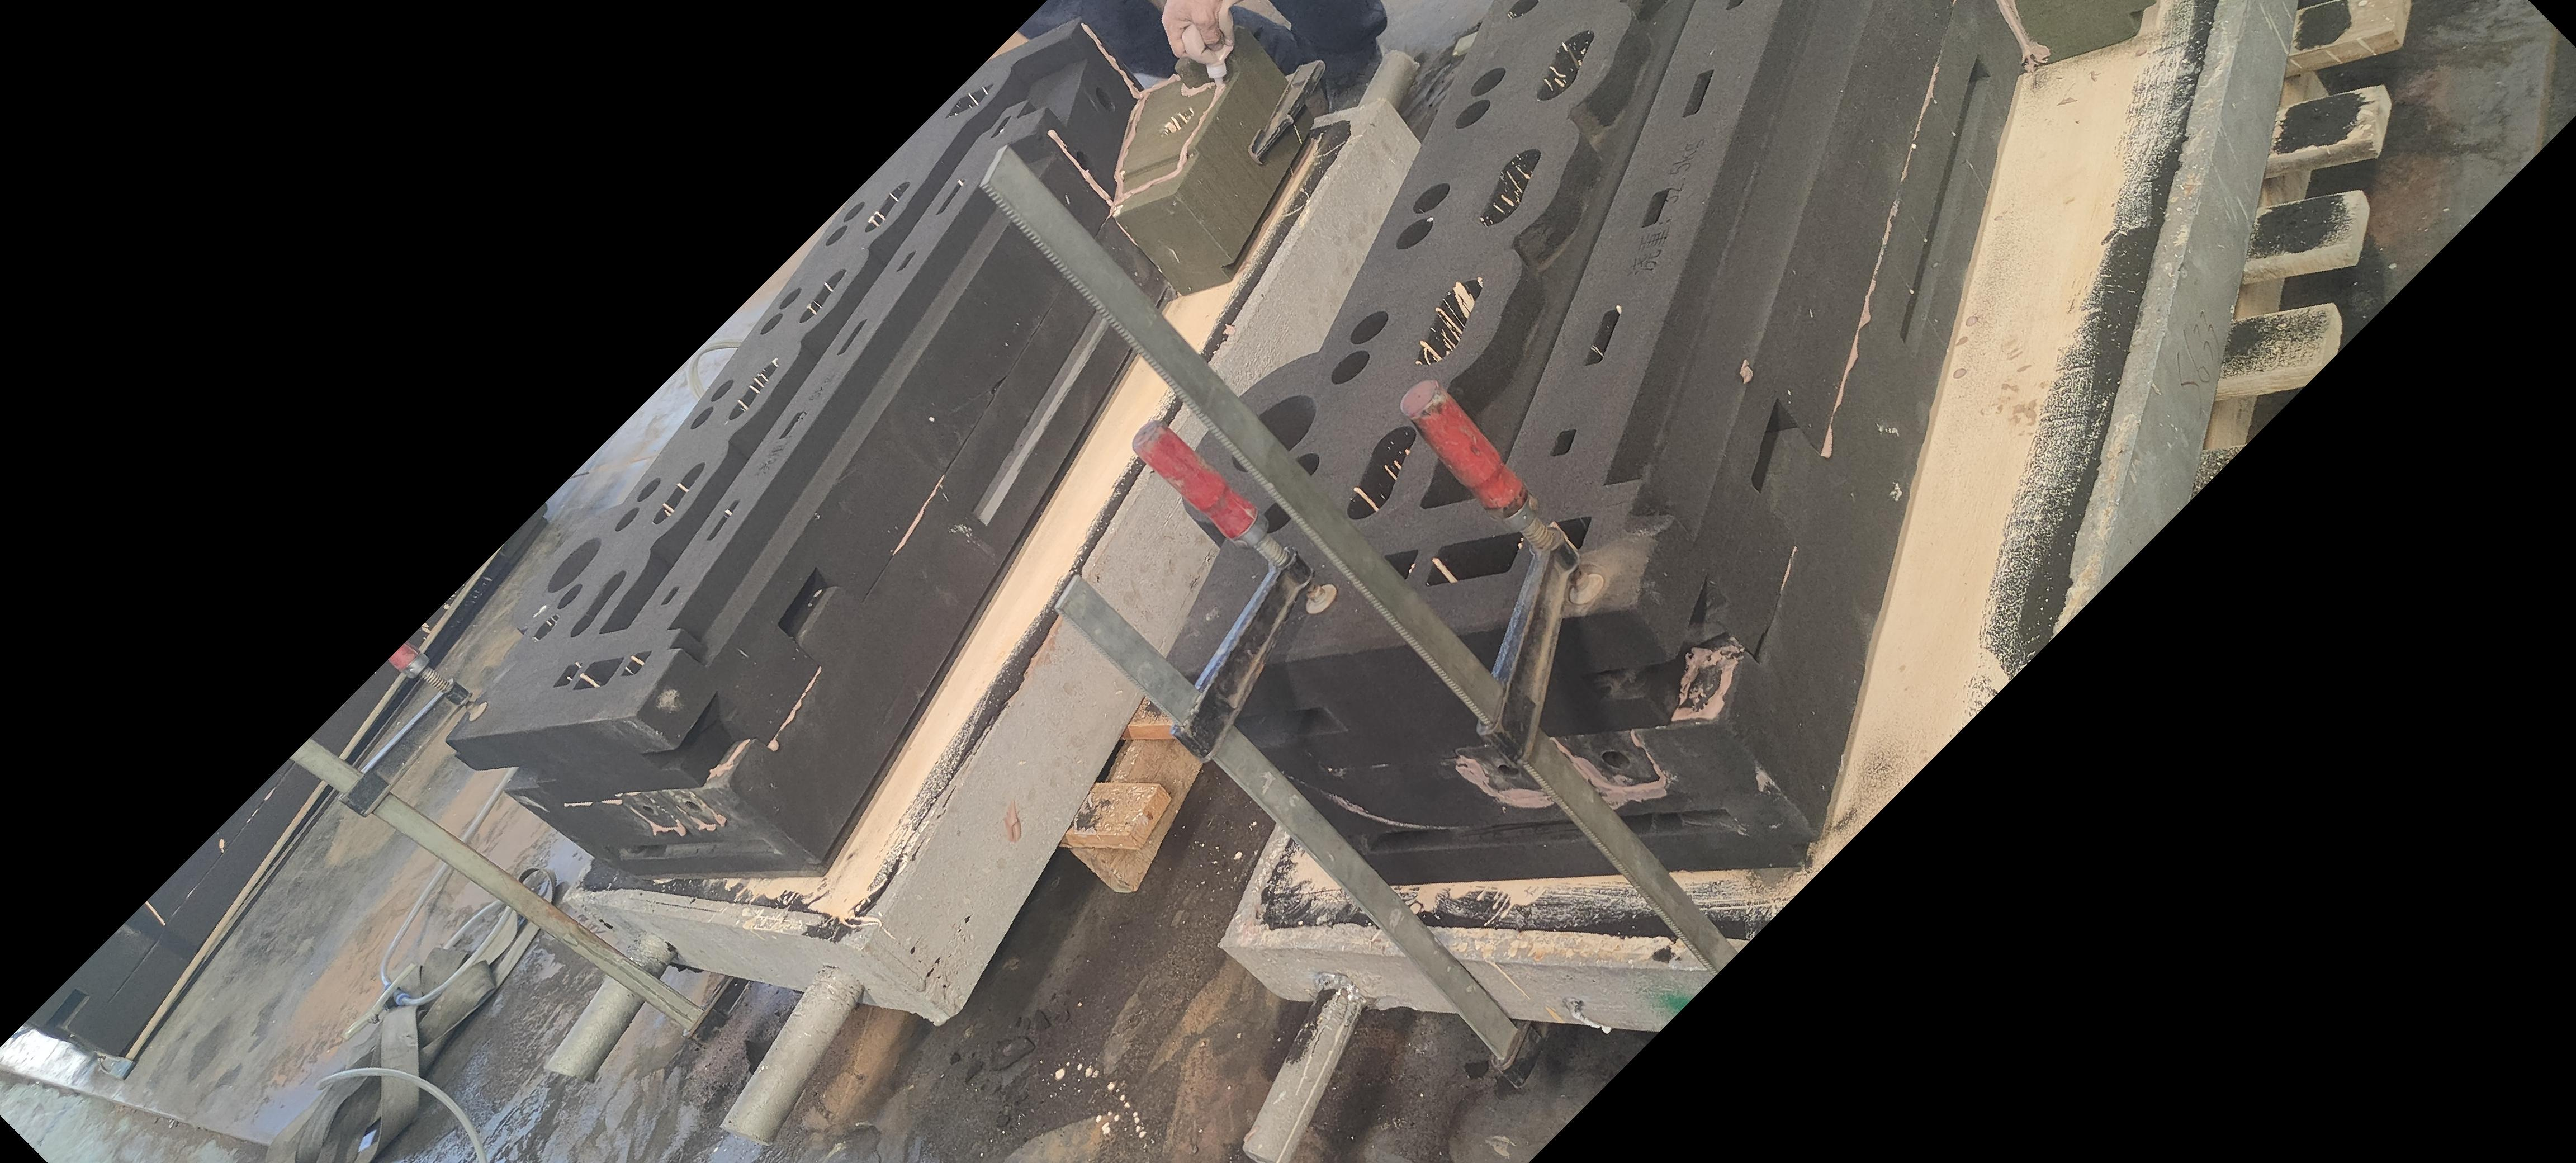pouring hole: (1226, 393, 1319, 471), (544, 537, 601, 593)
